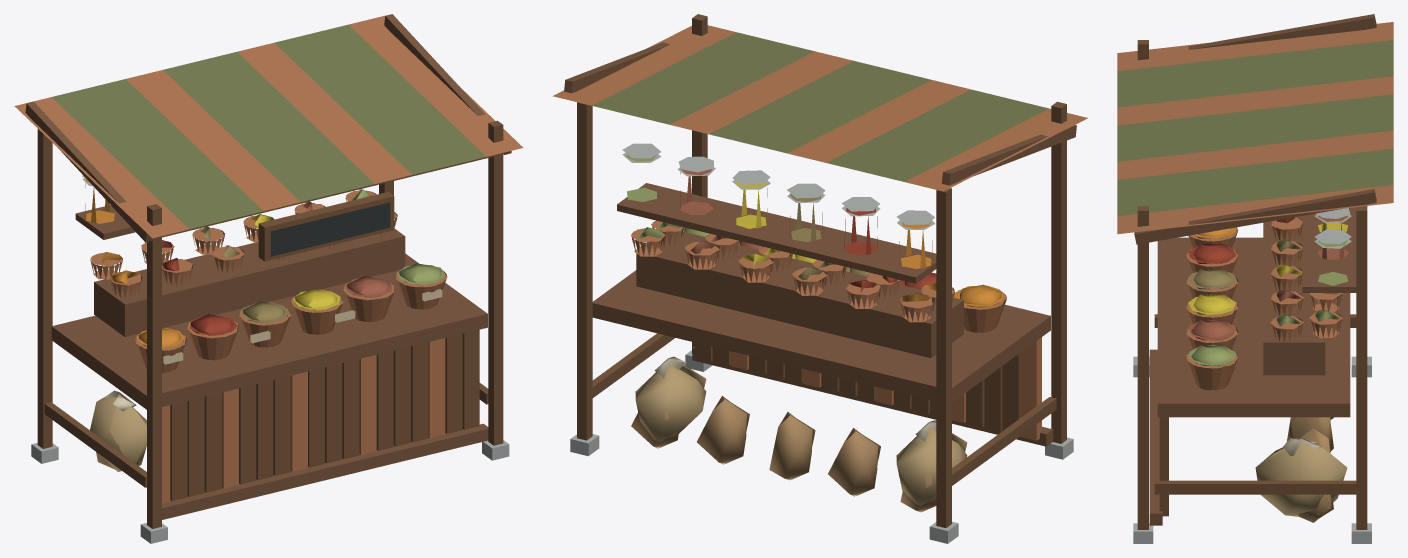
Rendered from spice-mid.glb.
3 views of the same model, side by side, from view 1: azimuth 30°, elevation 25°; view 2: azimuth 150°, elevation 25°; view 3: azimuth 270°, elevation 25° (orthographic). The views are drawn at different scales.
Visible parts, largest first — view 1: Spice Market Stall; view 2: Spice Market Stall; view 3: Spice Market Stall.
Boxes of the visible parts, <box> form: Spice Market Stall: <box>14,14,523,543</box>; Spice Market Stall: <box>552,14,1087,543</box>; Spice Market Stall: <box>1117,14,1393,543</box>.
Bounding box in the file's own units: 2.98 × 2.75 × 1.92.
